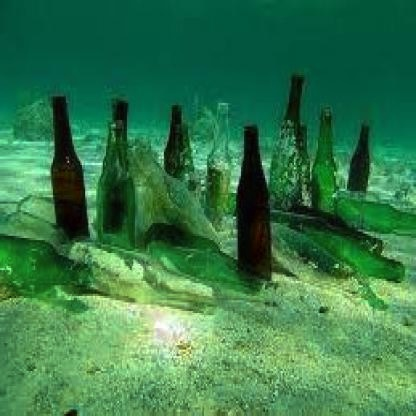gbottle: (144, 221, 263, 296), (289, 208, 403, 285), (50, 96, 90, 244), (101, 99, 137, 260), (2, 236, 90, 300), (236, 126, 272, 281), (271, 75, 302, 219), (335, 188, 416, 238), (312, 105, 337, 215)
